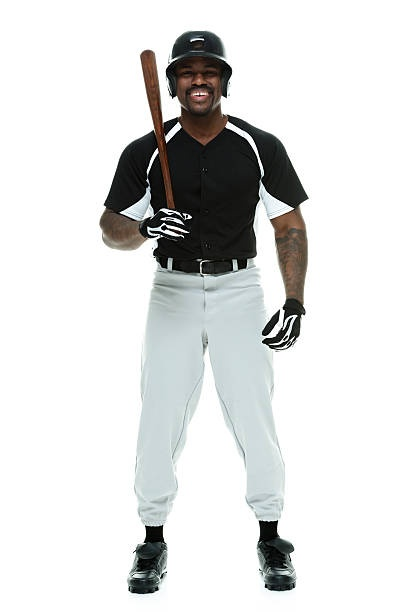bita: (141, 48, 180, 226)
